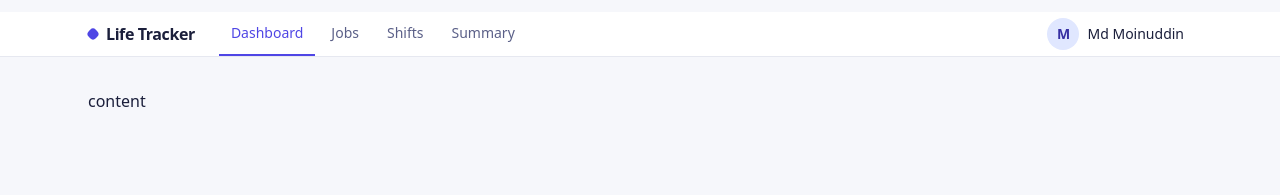
AppShell account › shows the signed-in user in the account menu
What coordinates should you click on to do the following:
click the button named "Account menu"
I would click on:
 (1116, 34)
Its box is 1040,12 -> 1192,56.
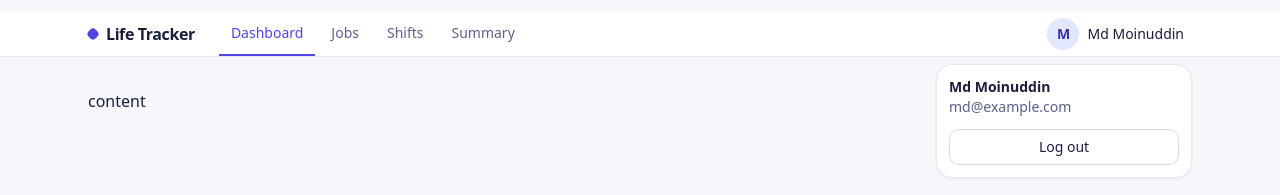
Result: the text "md@example.com" is shown at 949,97 -> 1071,116
